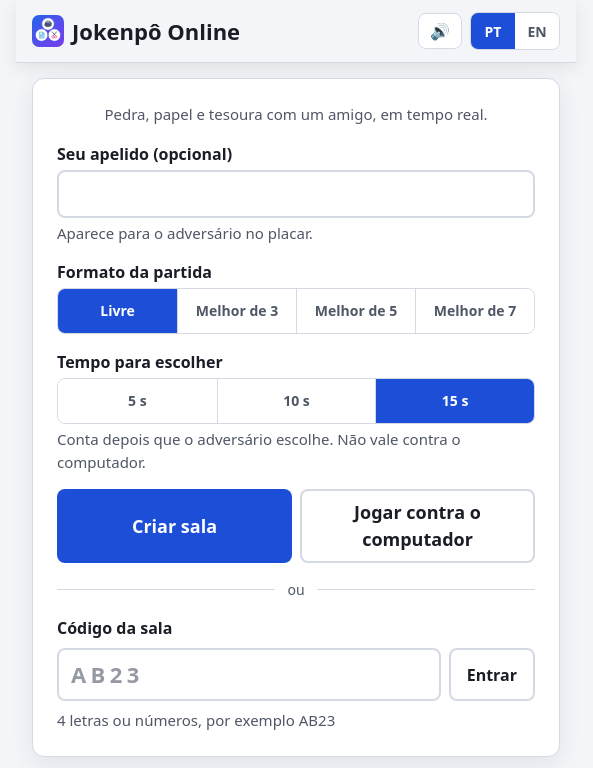
espera e jogo › com o adversário na sala, aparecem as jogadas e um aviso
The width and height of the screenshot is (593, 768).
Click the button "Criar sala": point(174, 526) x1=57 y1=489 x2=292 y2=563
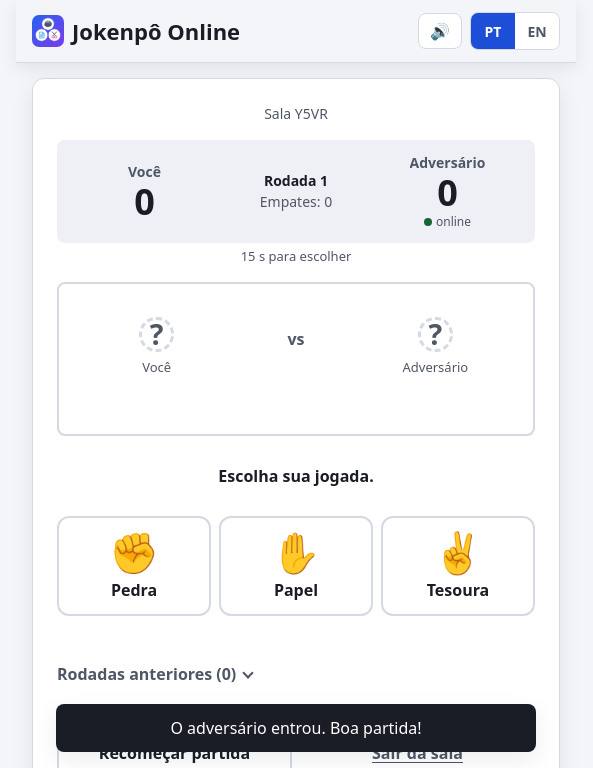
Check: the element named "Sua jogada" is shown, box x1=57 y1=516 x2=535 y2=616
Check: the text "O adversário entrou. Boa partida!" is shown, box x1=56 y1=704 x2=536 y2=752
